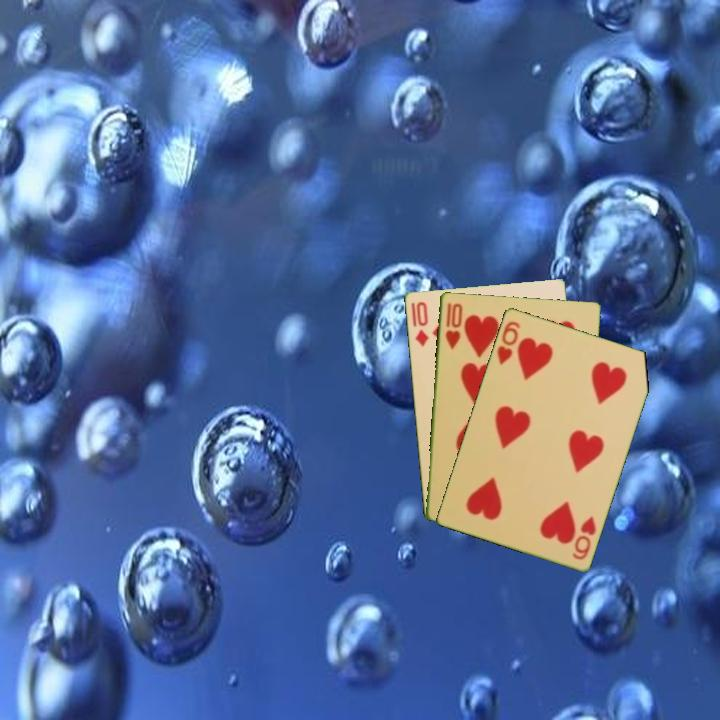10d: (407, 298, 431, 349)
10h: (442, 299, 465, 351)
6h: (493, 317, 523, 368), (569, 512, 599, 562)
